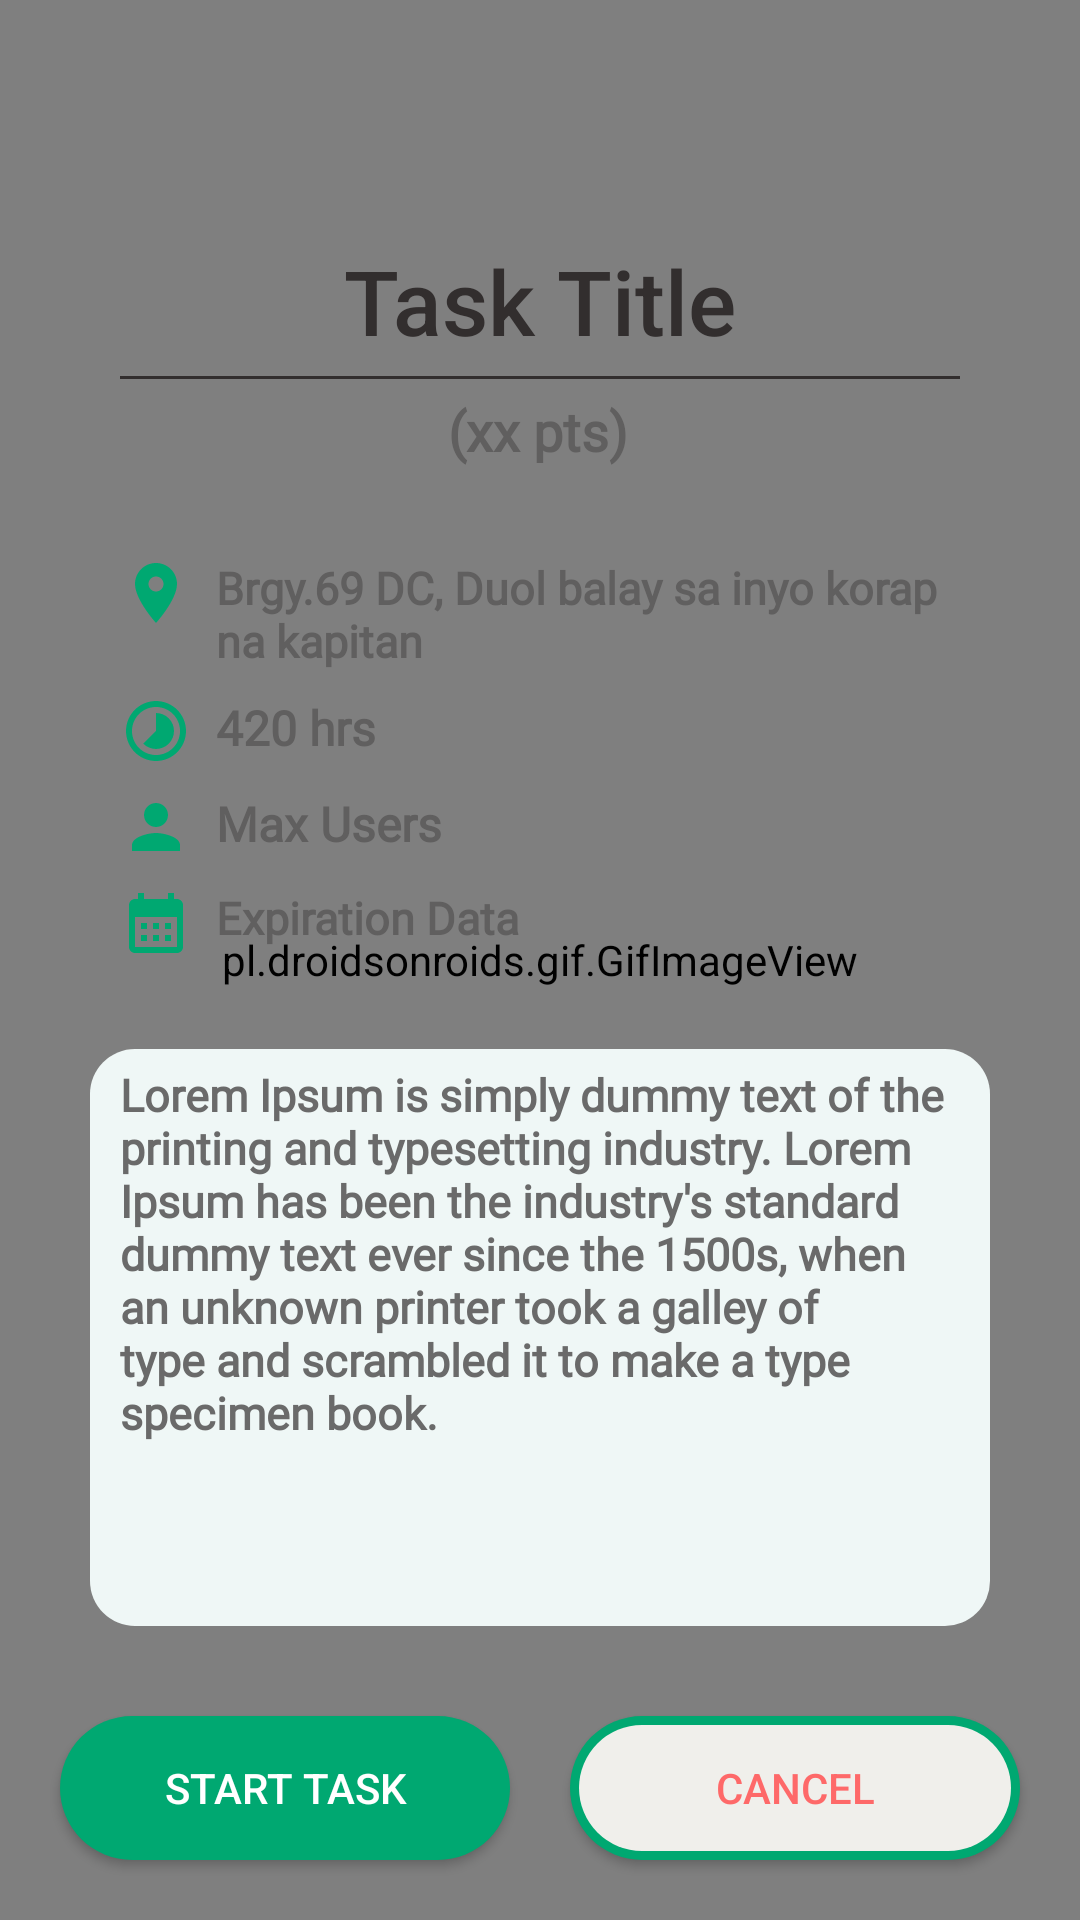

Named icons in this screenshot (1080w x 1920h) and their bounding boxes, (x1, y1, x2, y2):
calendar: (129, 893, 183, 953)
location: (135, 563, 177, 623)
person: (132, 803, 180, 851)
timer: (126, 701, 186, 761)
